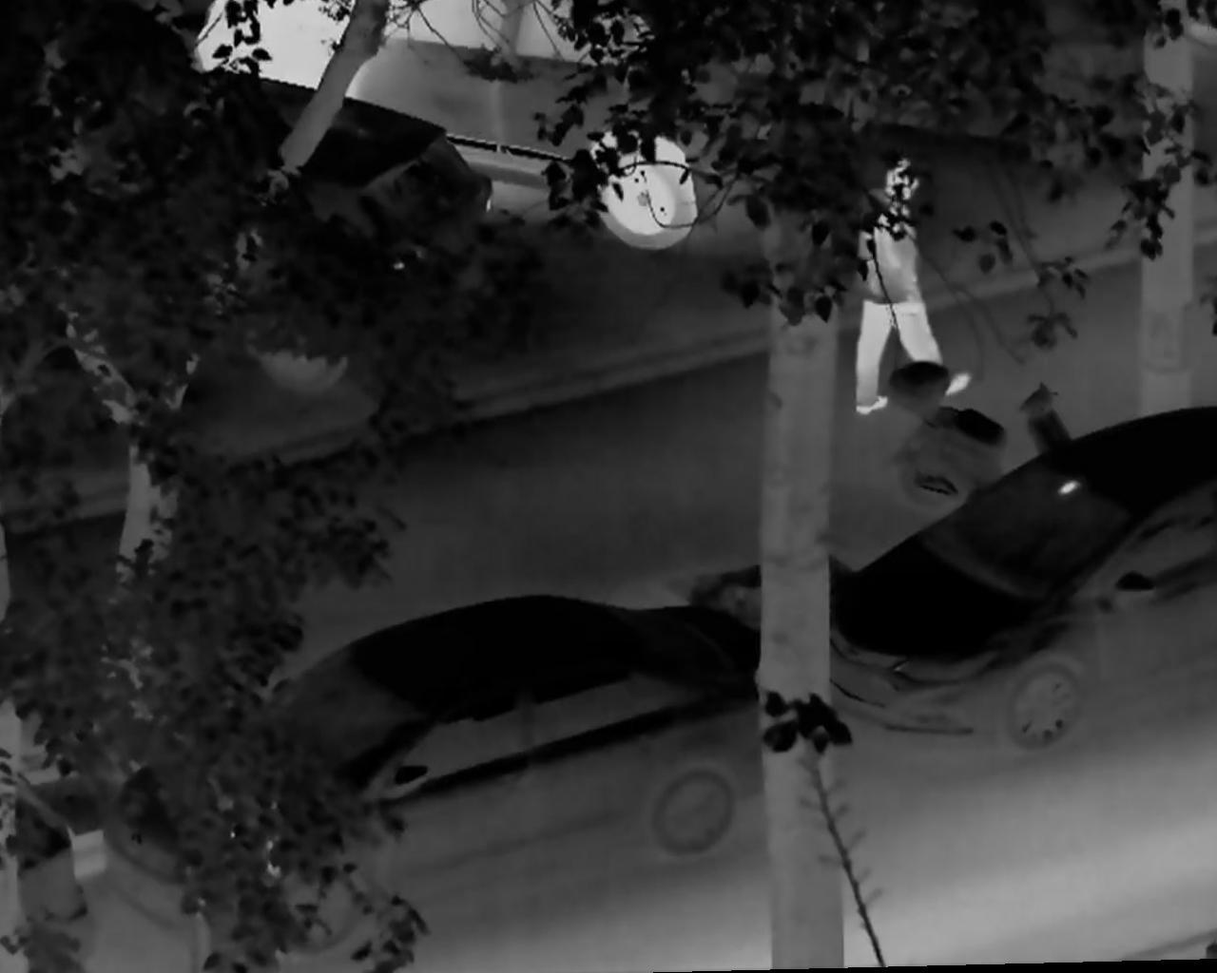person: (853, 154, 976, 418)
